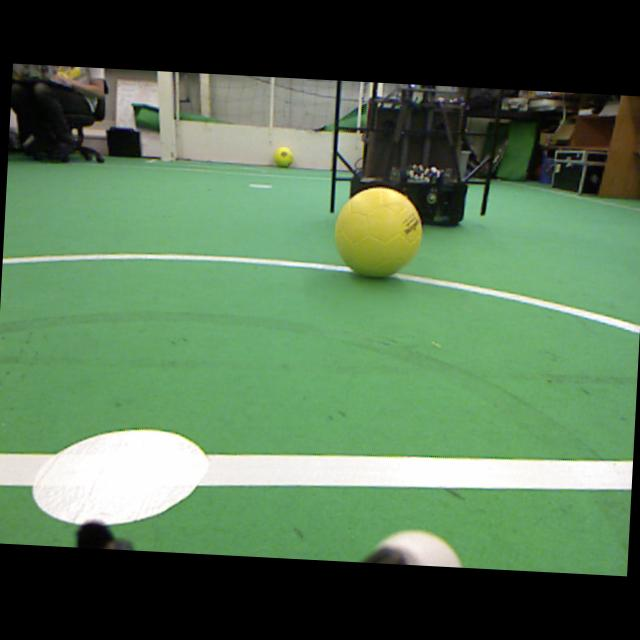ball: (334, 188, 422, 277), (273, 147, 294, 167)
goal: (157, 71, 174, 160)
robot: (350, 84, 468, 226)
